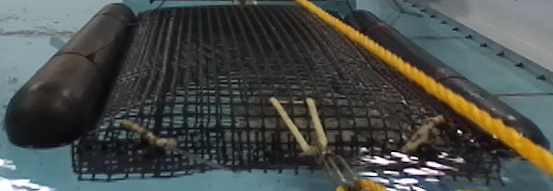bag: (5, 3, 551, 182)
